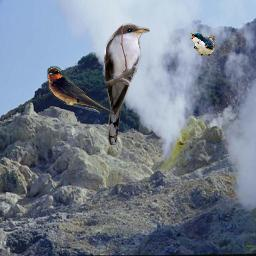Cuckoo: (103, 23, 150, 145)
Swallow: (47, 66, 114, 114), (189, 31, 216, 56)
